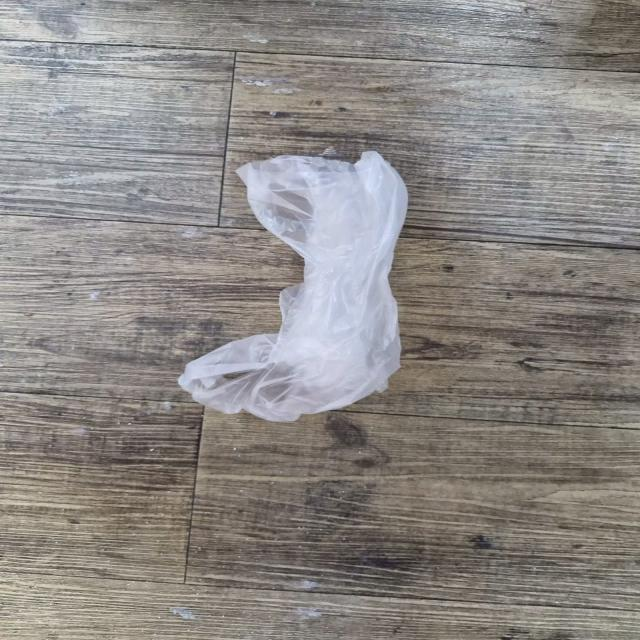plastic bag: (154, 141, 436, 457)
